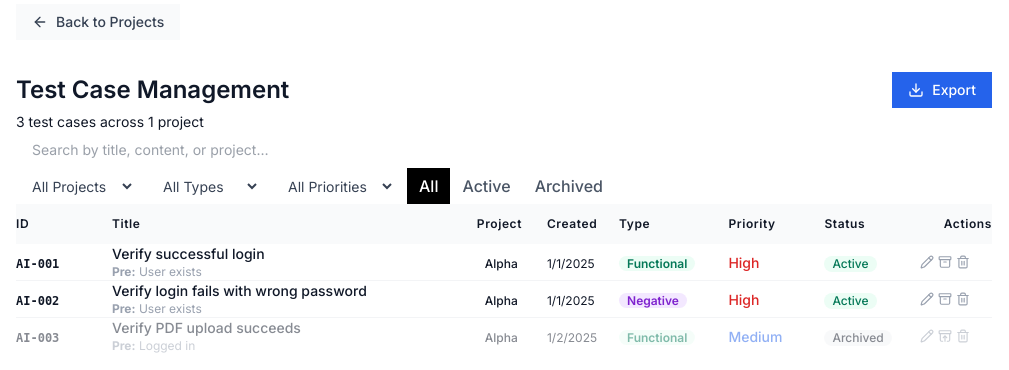
TestCaseManagementView – dropdown filters › filtering by Medium priority hides High priority cases
The width and height of the screenshot is (1009, 370).
Expected: the text "Verify successful login" is shown, [112,245,265,262]
Select "Medium" in the dropdown named "filter by priority" at (334, 186), box [272,168,395,204]
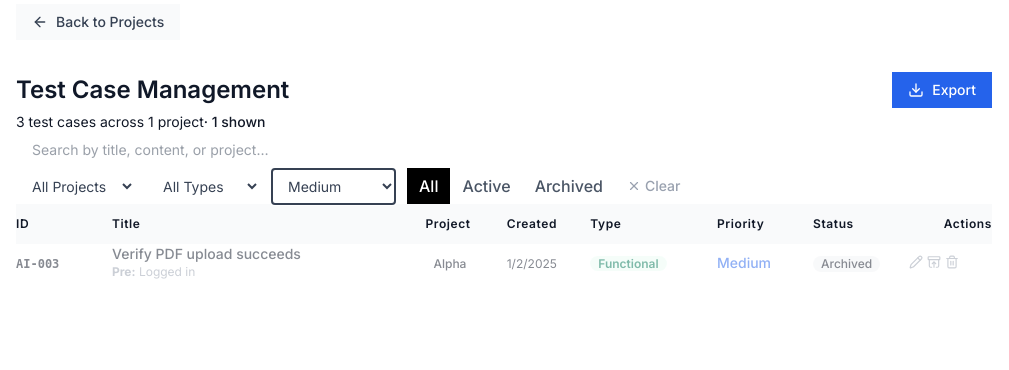
Expected: the text "Verify PDF upload succeeds" is shown, [112,245,301,262]
Expected: the text "Verify successful login" is gone
